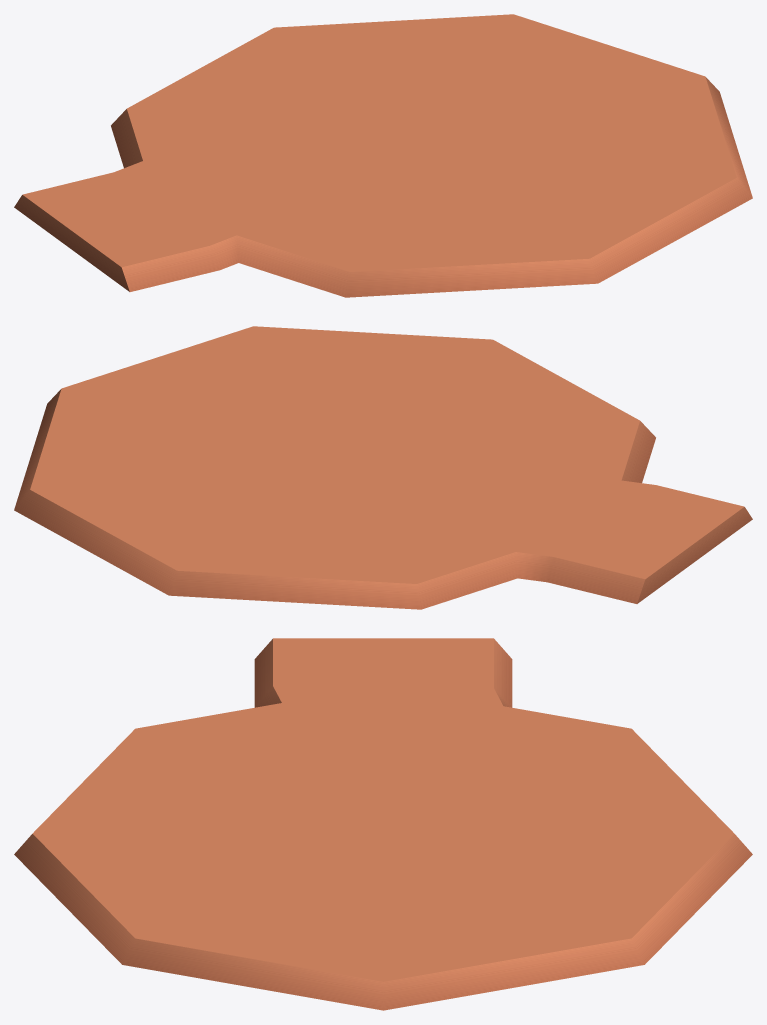
The model's file is path-square-end.fbx.
3 renders of one model, top to bottom at view 1: azimuth 30°, elevation 25°; view 2: azimuth 150°, elevation 25°; view 3: azimuth 270°, elevation 25°, orthographic. The views are drawn at different scales.
Parts seen in each view (by area): view 1: path_square_end; view 2: path_square_end; view 3: path_square_end.
Part boxes in pixels (bbox=[...]): path_square_end: bbox=[14, 14, 752, 297]; path_square_end: bbox=[14, 326, 752, 609]; path_square_end: bbox=[14, 638, 752, 1010].
Bounding box in the file's own units: 90 × 2.5 × 80.
1 material, 1 textured.
